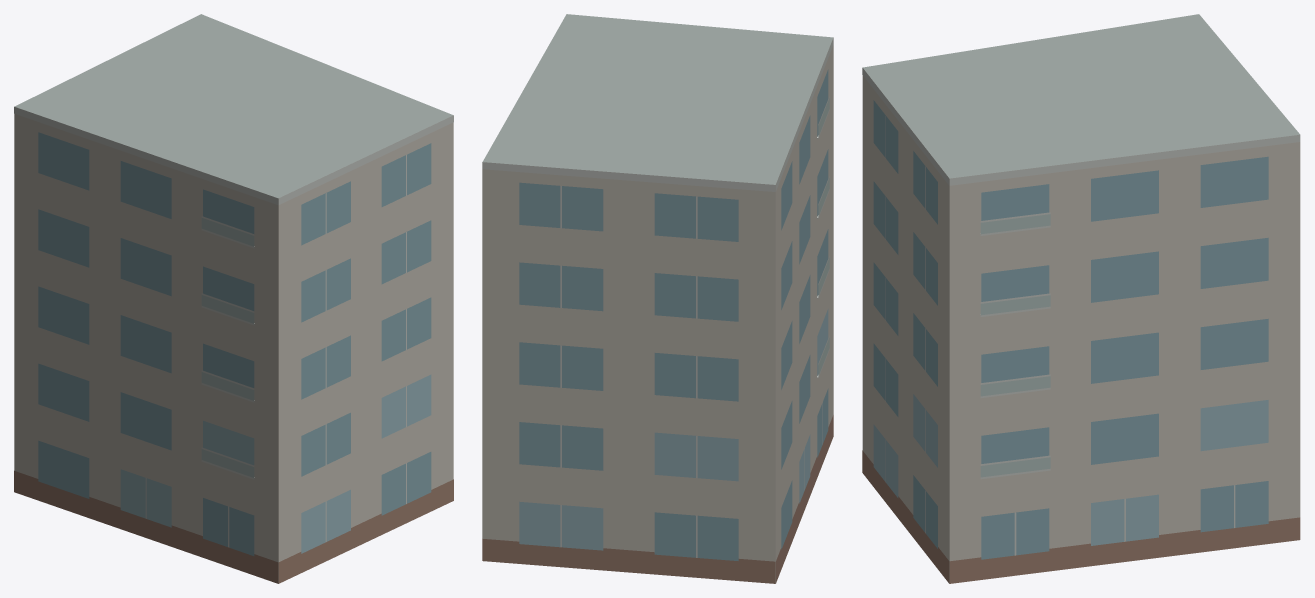
Rendered from survey-upis-33024770.glb.
The picture shows the model from 3 angles, left to right: view 1: azimuth 30°, elevation 25°; view 2: azimuth 150°, elevation 25°; view 3: azimuth 270°, elevation 25°; orthographic projection. The views are drawn at different scales.
Visible parts, largest first — view 1: survey-upis-33024770.tmp; view 2: survey-upis-33024770.tmp; view 3: survey-upis-33024770.tmp.
Part boxes in pixels (<box>): survey-upis-33024770.tmp: <box>14,14,453,583</box>; survey-upis-33024770.tmp: <box>482,14,833,583</box>; survey-upis-33024770.tmp: <box>862,14,1300,583</box>.
Bounding box in the file's own units: 11.85 × 13.6 × 13.33.
